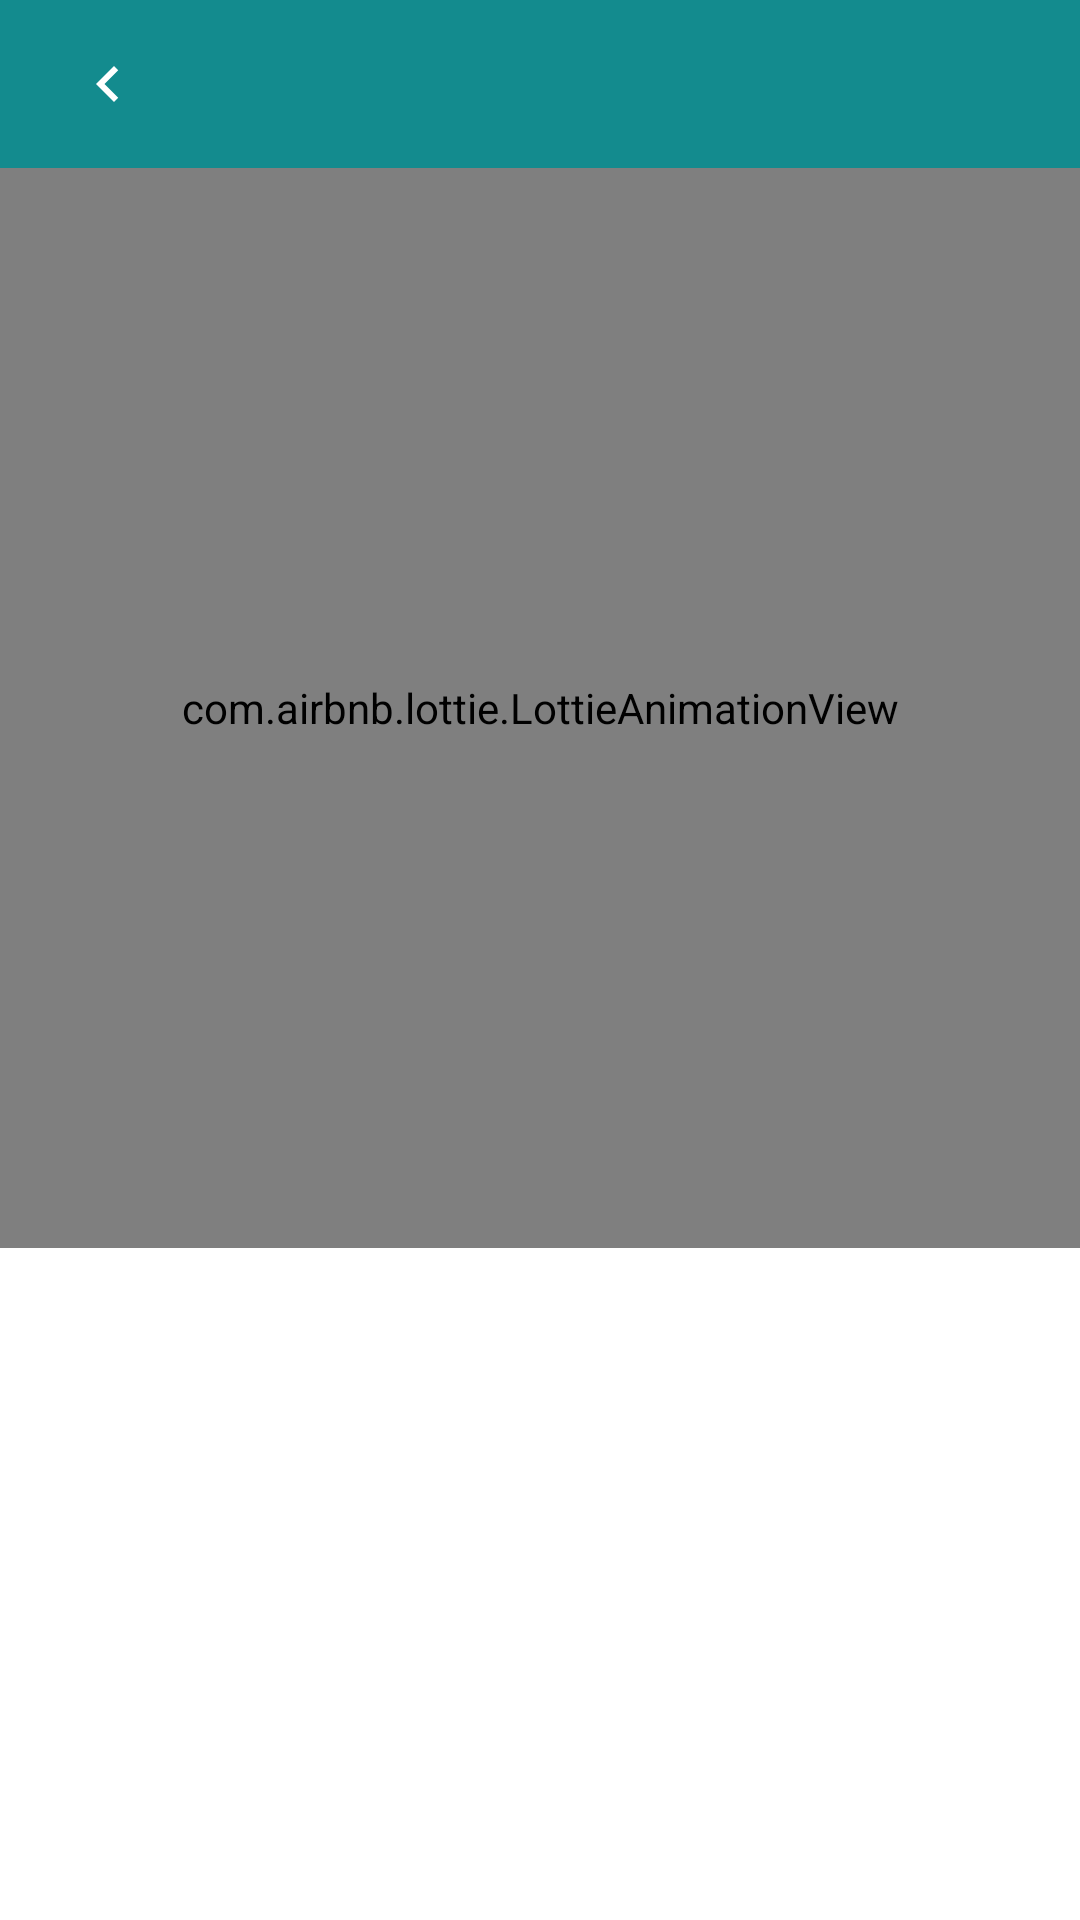

Icon bounding boxes for this 1080 x 1920 phone screenshot, format (x1, y1, x2, y2):
back: (96, 66, 118, 102)
